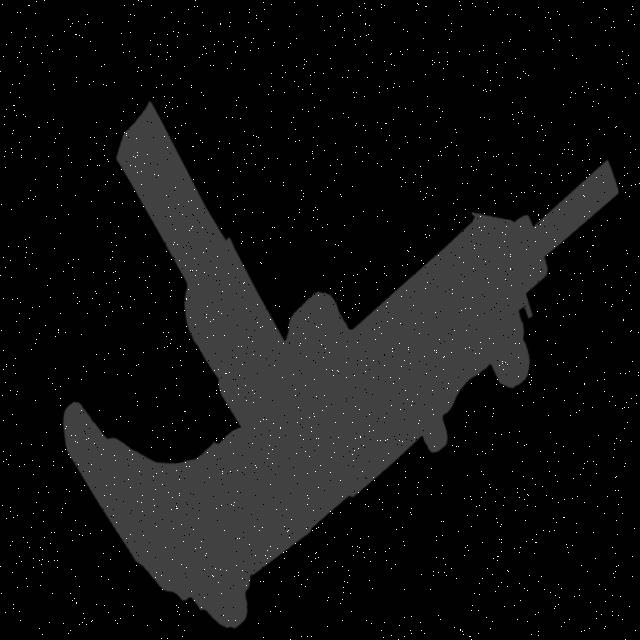firearm: (18, 27, 639, 639)
